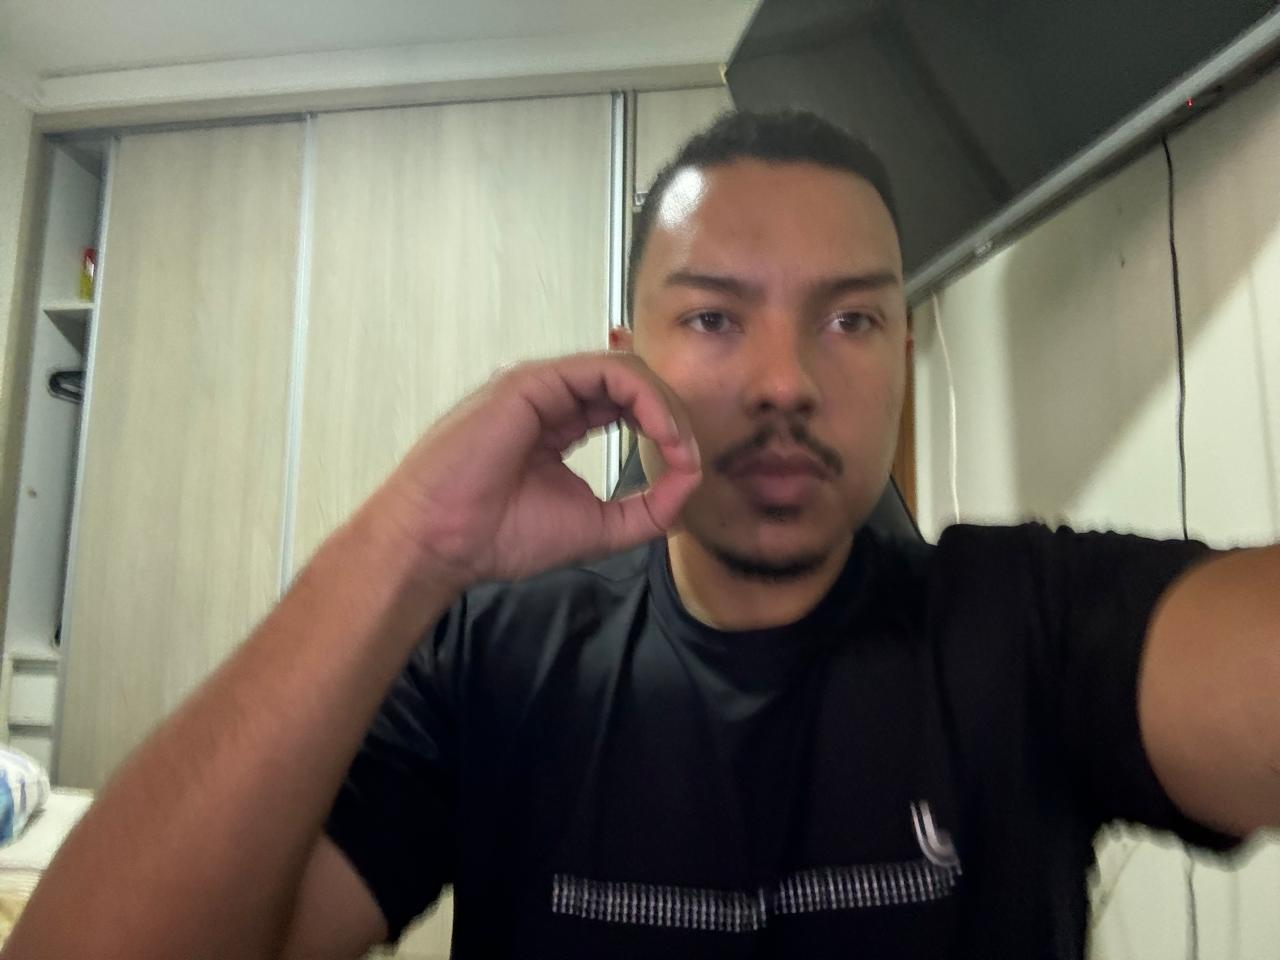o: (382, 331, 723, 590)
